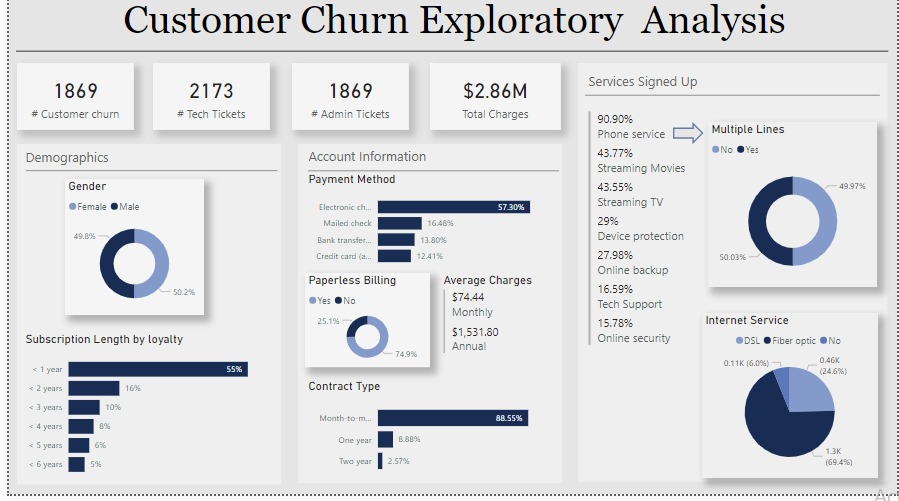

The page's visual inventory and layout, read from the dashboard file:
{"tool":"powerbi","page":{"name":"Customer Risk Analysis","canvas":[1280,720],"ordinal":0},"visuals":[{"type":"textbox","box":[10.1,0,1113.1,83.5],"z":0},{"type":"textbox","box":[998.8,50.6,267.4,32.4],"z":1000},{"type":"card","fields":{"Values":["CountNonNull(01 Churn-Dataset.Churn)"]},"box":[12,100,168,96],"z":2000},{"type":"card","fields":{"Values":["Sum(01 Churn-Dataset.numTechTickets)"]},"box":[208,100,168,96],"z":3000},{"type":"shape","box":[10.1,66.9,1256.1,32.4],"z":4000},{"type":"card","fields":{"Values":["CountNonNull(01 Churn-Dataset.numAdminTickets)"]},"box":[408,100,168,96],"z":5000},{"type":"card","fields":{"Values":["Sum(01 Churn-Dataset.TotalCharges)"]},"box":[606,100,188,96],"z":6000},{"type":"shape","box":[12,216,380,490],"z":7000},{"type":"shape","box":[416,216,380,488],"z":8000},{"type":"shape","box":[820,100,445.7,602.9],"z":9000},{"type":"textbox","box":[18.8,217.5,168.8,38.8],"z":10000},{"type":"basicShape","box":[14,244,382,22],"z":11000},{"type":"donutChart","title":"Gender","fields":{"Y":["CountNonNull(01 Churn-Dataset.gender)"],"Category":["01 Churn-Dataset.gender"]},"box":[80,266,200,196],"z":12000},{"type":"clusteredBarChart","fields":{"Category":["01 Churn-Dataset.loyalty"],"Y":["CountNonNull(01 Churn-Dataset.Churn)"]},"box":[18,486,360,218],"z":13000},{"type":"textbox","box":[426.2,216.2,368.8,40],"z":14000},{"type":"basicShape","box":[420,243.8,381.2,22.5],"z":15000},{"type":"clusteredBarChart","title":"Payment Method","fields":{"Category":["01 Churn-Dataset.PaymentMethod"],"Y":["CountNonNull(01 Churn-Dataset.PaymentMethod)"]},"box":[426.7,256.7,370,145],"z":16000},{"type":"donutChart","title":"Paperless Billing","fields":{"Category":["01 Churn-Dataset.PaperlessBilling"],"Y":["CountNonNull(01 Churn-Dataset.PaperlessBilling)"]},"box":[426,402,180,136],"z":17000},{"type":"multiRowCard","title":"Average Charges","fields":{"Values":["01 Churn-Dataset.Average Monthly Charges","01 Churn-Dataset.Average Annual Charges"]},"box":[620,401.7,173.3,136.7],"z":18000},{"type":"clusteredBarChart","title":"Contract Type","fields":{"Category":["01 Churn-Dataset.Contract"],"Y":["CountNonNull(01 Churn-Dataset.Contract)"]},"box":[426.7,555,370,148.3],"z":19000},{"type":"textbox","box":[830,108.6,434.3,40],"z":20000},{"type":"basicShape","box":[820,135.7,444.3,12.9],"z":21000},{"type":"multiRowCard","fields":{"Values":["01 Churn-Dataset.Phone service in %","01 Churn-Dataset.Streaming Movies in %","01 Churn-Dataset.Streaming TV in %","01 Churn-Dataset.Device protection in %","01 Churn-Dataset.Online backup in %","01 Churn-Dataset.Tech Support in %","01 Churn-Dataset.Online security in %"]},"box":[830,164,168,374],"z":22000},{"type":"donutChart","title":"Multiple Lines","fields":{"Y":["CountNonNull(01 Churn-Dataset.MultipleLines)"],"Series":["01 Churn-Dataset.MultipleLines"]},"box":[1006,184,244,238],"z":23000},{"type":"pieChart","title":"Internet Service ","fields":{"Y":["CountNonNull(01 Churn-Dataset.InternetService)"],"Series":["01 Churn-Dataset.InternetService"]},"box":[997.5,460,252.5,237.5],"z":24000},{"type":"shape","box":[956,184,44,32],"z":25000}]}

Visuals, with their boxes in screenshot pixels (x1, y1, x2, y2), scaled from the page's 1280x720 canvas onto the 899x501 screenshot:
textbox: left=7, top=0, right=789, bottom=58
textbox: left=702, top=35, right=889, bottom=58
card - CountNonNull(01 Churn-Dataset.Churn): left=8, top=70, right=126, bottom=136
card - Sum(01 Churn-Dataset.numTechTickets): left=146, top=70, right=264, bottom=136
shape: left=7, top=47, right=889, bottom=69
card - CountNonNull(01 Churn-Dataset.numAdminTickets): left=287, top=70, right=405, bottom=136
card - Sum(01 Churn-Dataset.TotalCharges): left=426, top=70, right=558, bottom=136
shape: left=8, top=150, right=275, bottom=491
shape: left=292, top=150, right=559, bottom=490
shape: left=576, top=70, right=889, bottom=489
textbox: left=13, top=151, right=132, bottom=178
basicShape: left=10, top=170, right=278, bottom=185
"Gender" donutChart: left=56, top=185, right=197, bottom=321
clusteredBarChart - 01 Churn-Dataset.loyalty x CountNonNull(01 Churn-Dataset.Churn): left=13, top=338, right=265, bottom=490
textbox: left=299, top=150, right=558, bottom=178
basicShape: left=295, top=170, right=563, bottom=185
"Payment Method" clusteredBarChart: left=300, top=179, right=560, bottom=280
"Paperless Billing" donutChart: left=299, top=280, right=426, bottom=374
"Average Charges" multiRowCard: left=435, top=280, right=557, bottom=375
"Contract Type" clusteredBarChart: left=300, top=386, right=560, bottom=489
textbox: left=583, top=76, right=888, bottom=103
basicShape: left=576, top=94, right=888, bottom=103
multiRowCard - 01 Churn-Dataset.Phone service in % x 01 Churn-Dataset.Streaming Movies in %: left=583, top=114, right=701, bottom=374
"Multiple Lines" donutChart: left=707, top=128, right=878, bottom=294
"Internet Service " pieChart: left=701, top=320, right=878, bottom=485
shape: left=671, top=128, right=702, bottom=150
